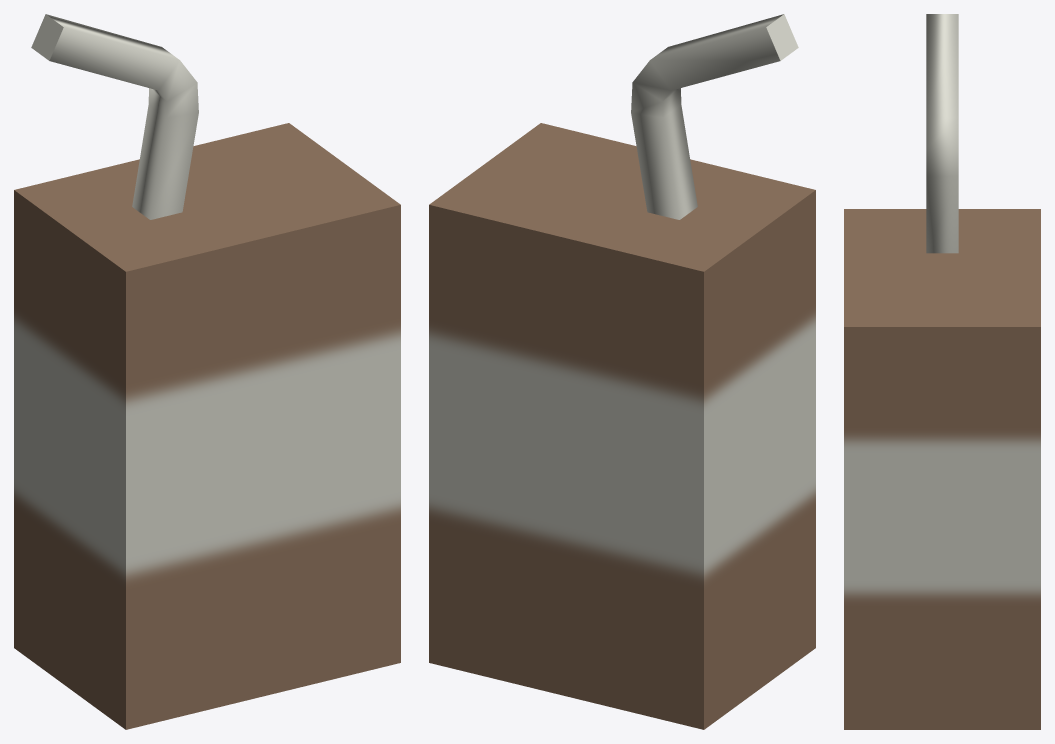
Rendered from kotak susu.fbx.
The picture shows the model from 3 angles, left to right: view 1: azimuth 30°, elevation 25°; view 2: azimuth 150°, elevation 25°; view 3: azimuth 270°, elevation 25°; orthographic projection. The views are drawn at different scales.
Parts seen in each view (by area): view 1: carton milk; view 2: carton milk; view 3: carton milk.
Boxes of the visible parts, x1,y1,x2,y2 form: carton milk: [14, 14, 400, 729]; carton milk: [429, 14, 815, 729]; carton milk: [844, 14, 1040, 729].
Size of the model in its own units: 0.1457 by 0.3071 by 0.0926.
1 material, 1 textured.
